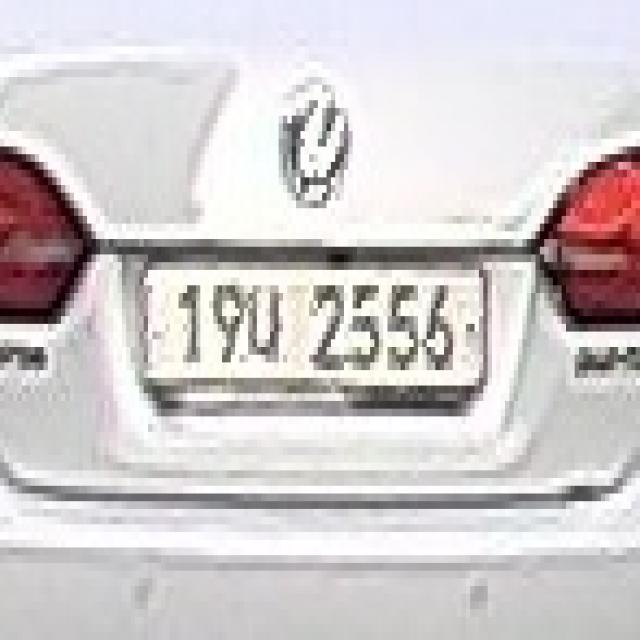1: (174, 270, 205, 378)
2: (305, 278, 348, 378)
5: (383, 270, 422, 378), (344, 278, 383, 378)
6: (422, 278, 462, 378)
9: (209, 278, 248, 386)
license_plate: (131, 247, 496, 432)
na: (248, 278, 283, 386)
